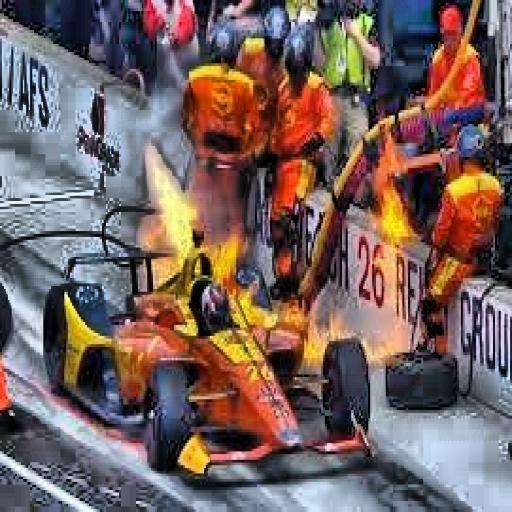fire: (132, 162, 259, 303), (255, 272, 421, 374), (363, 126, 429, 248)
